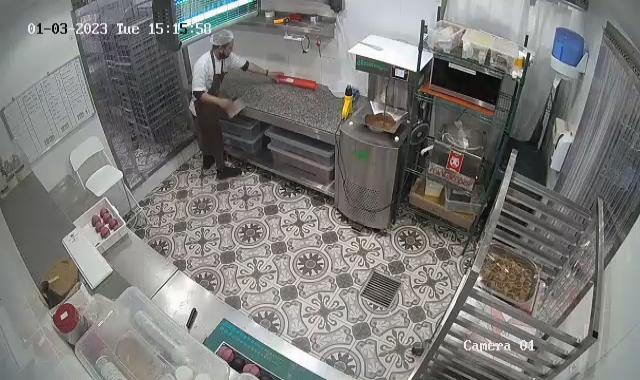hairnet: (205, 29, 237, 50)
